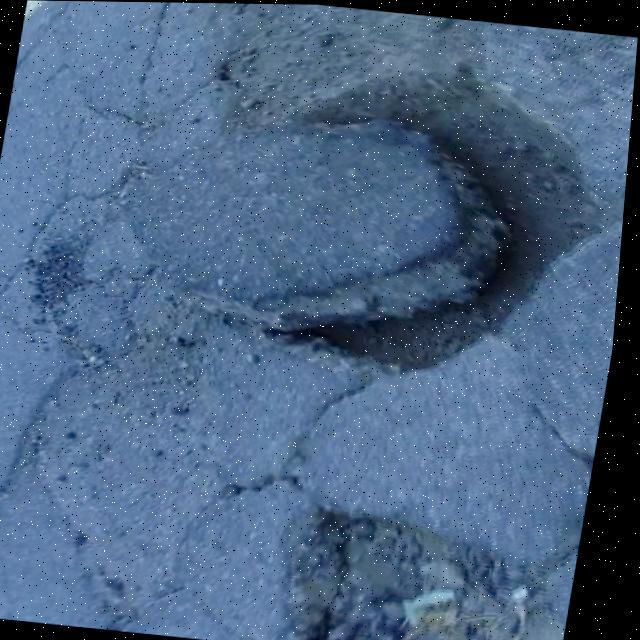pothole: (227, 44, 638, 402)
